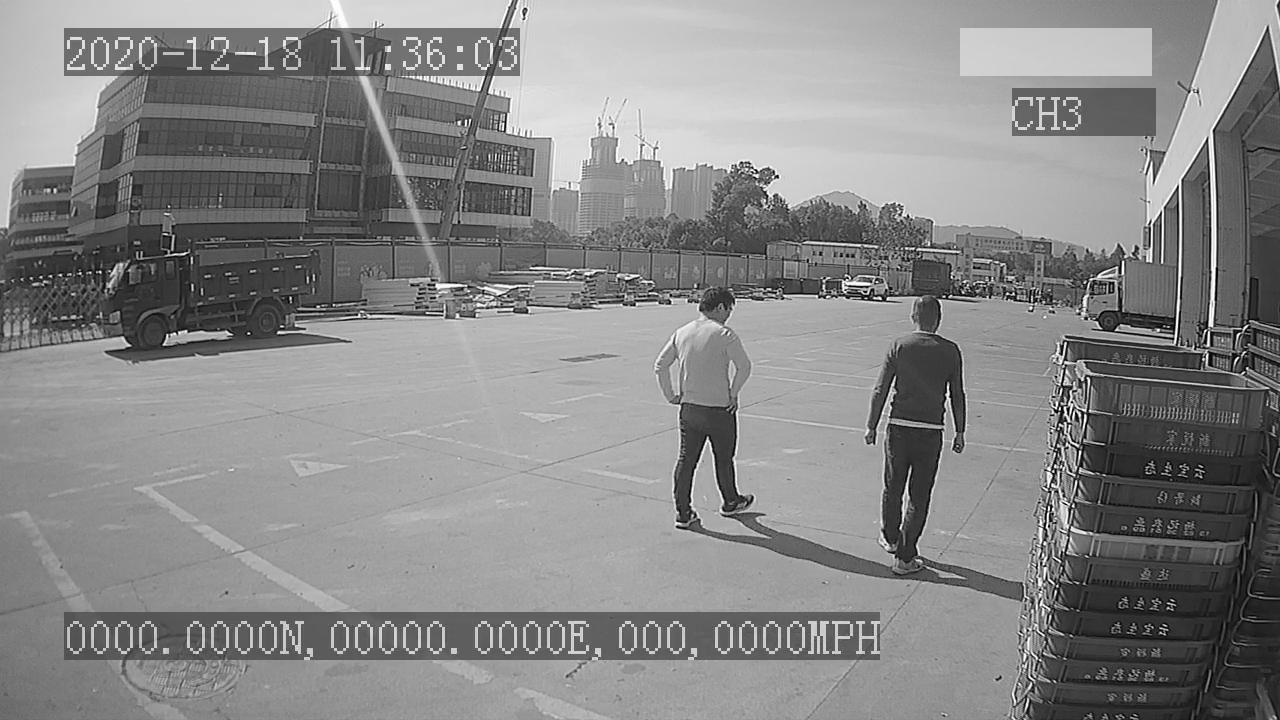person: (864, 295, 969, 573), (655, 284, 769, 534)
